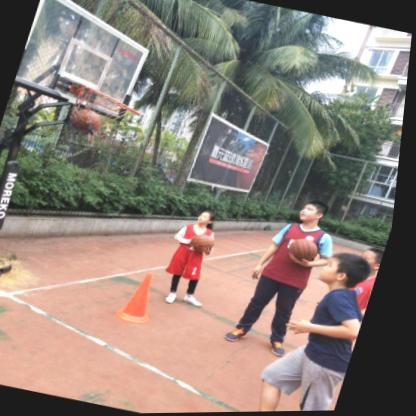basketball: (291, 236, 326, 265), (194, 232, 221, 255)
